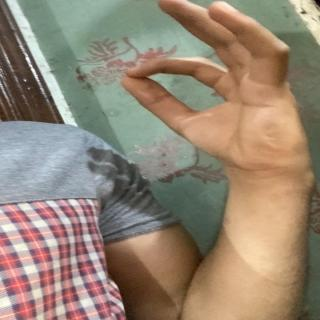Space: (108, 0, 320, 190)
